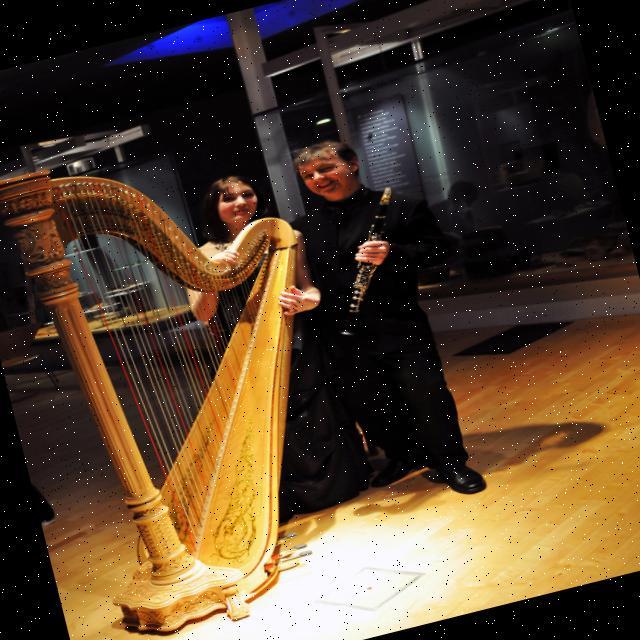clarinet: (305, 182, 428, 342)
harp: (0, 103, 393, 640)
